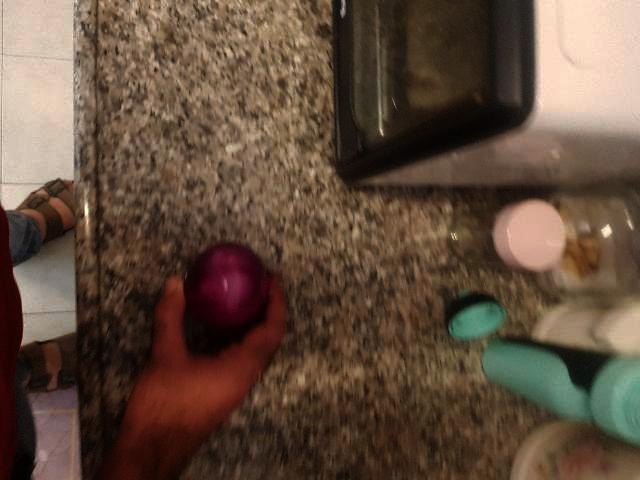onion: (151, 246, 266, 363)
